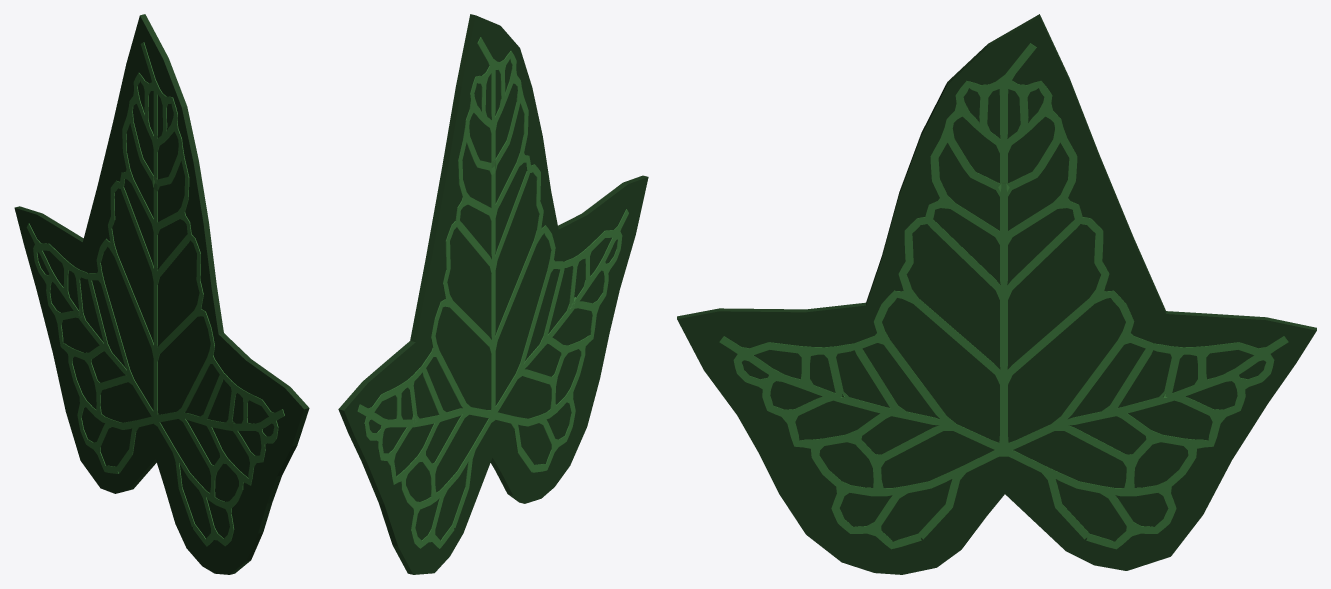
Rendered from Feuille_lierre.fbx.
The picture shows the model from 3 angles, left to right: view 1: azimuth 30°, elevation 25°; view 2: azimuth 150°, elevation 25°; view 3: azimuth 270°, elevation 25°; orthographic projection. The views are drawn at different scales.
Parts seen in each view (by area): view 1: Exterieur; view 2: Exterieur; view 3: Exterieur.
Part boxes in pixels (x1=…): Exterieur: x1=14, y1=14, x2=309, y2=574; Exterieur: x1=338, y1=14, x2=648, y2=574; Exterieur: x1=677, y1=14, x2=1316, y2=574.
Bounding box in the file's own units: 2.1 × 88.89 × 92.37.
